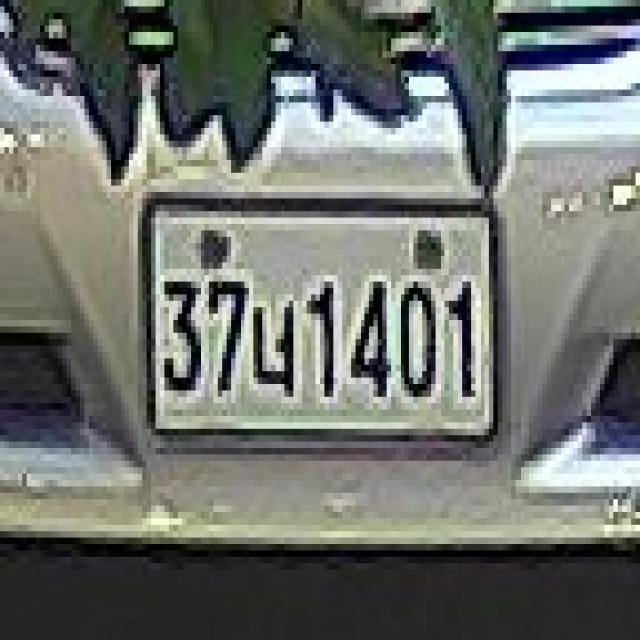0: (396, 282, 440, 396)
1: (444, 275, 480, 397), (306, 275, 338, 403)
3: (160, 282, 204, 396)
4: (351, 282, 391, 396)
7: (204, 269, 249, 397)
license_plate: (142, 198, 502, 454)
neo: (249, 301, 298, 403)
